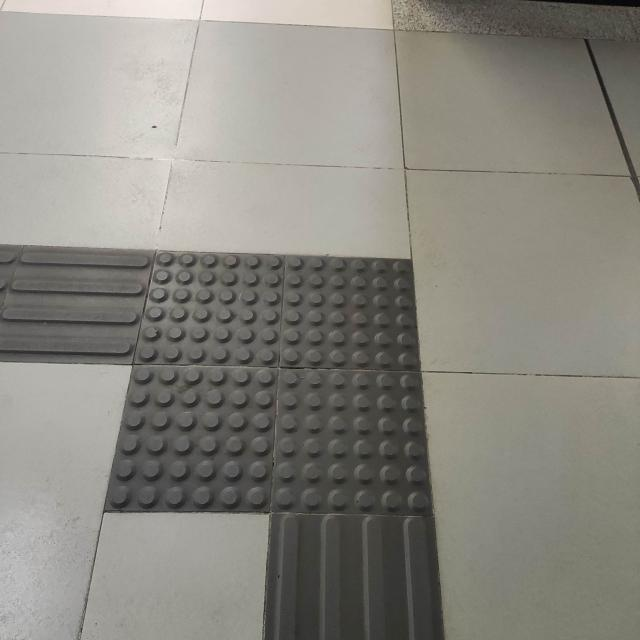kiri: (6, 207, 503, 640)
